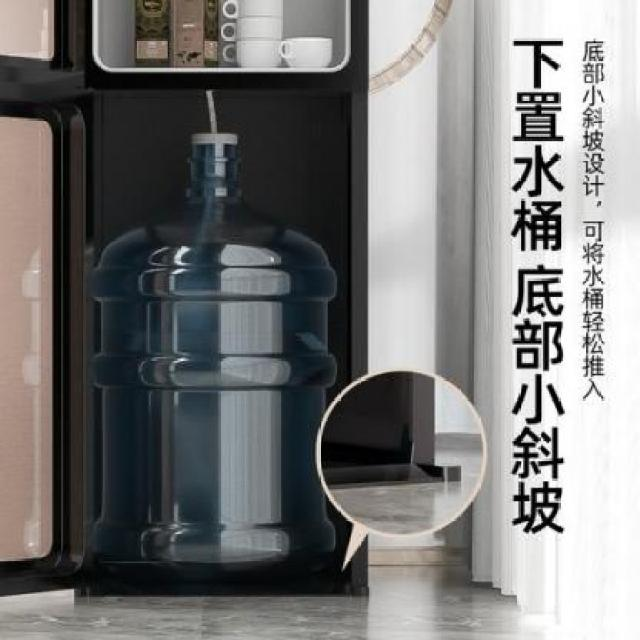coolerbottle: (88, 123, 343, 578)
